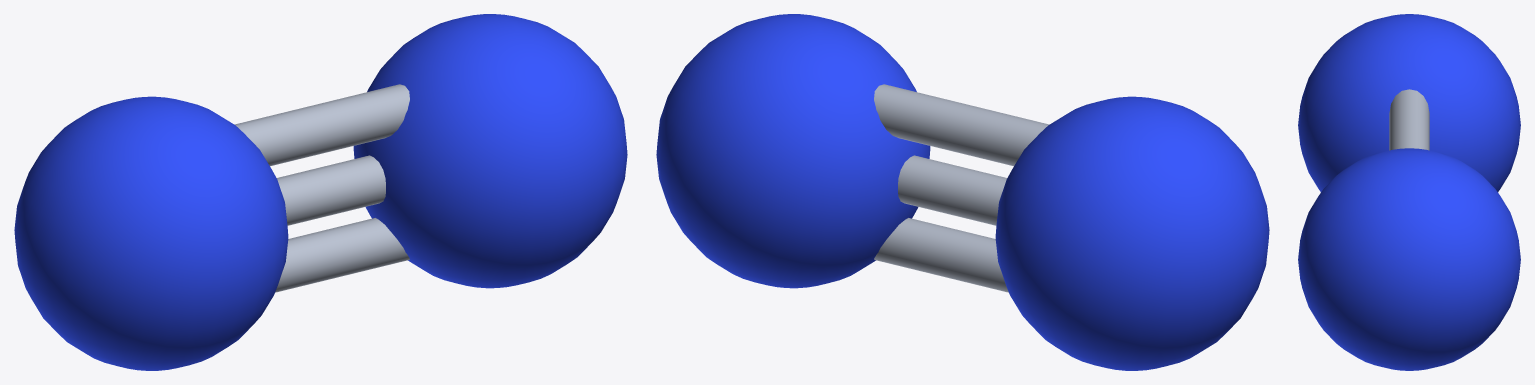
3 renders of one model, left to right at view 1: azimuth 30°, elevation 25°; view 2: azimuth 150°, elevation 25°; view 3: azimuth 270°, elevation 25°, orthographic. The views are drawn at different scales.
Visible parts, largest first — view 1: N (×2), bond (×3); view 2: N (×2), bond (×3); view 3: N (×2), bond.
Part boxes in pixels (x1,y1,x2,y2): N (×2): (14, 14, 627, 370); bond (×3): (234, 84, 409, 292); N (×2): (656, 14, 1269, 370); bond (×3): (874, 84, 1049, 292); N (×2): (1298, 14, 1520, 370); bond: (1389, 89, 1429, 150).
Size of the model in its own units: 0.22 by 0.0907 by 0.0907.
